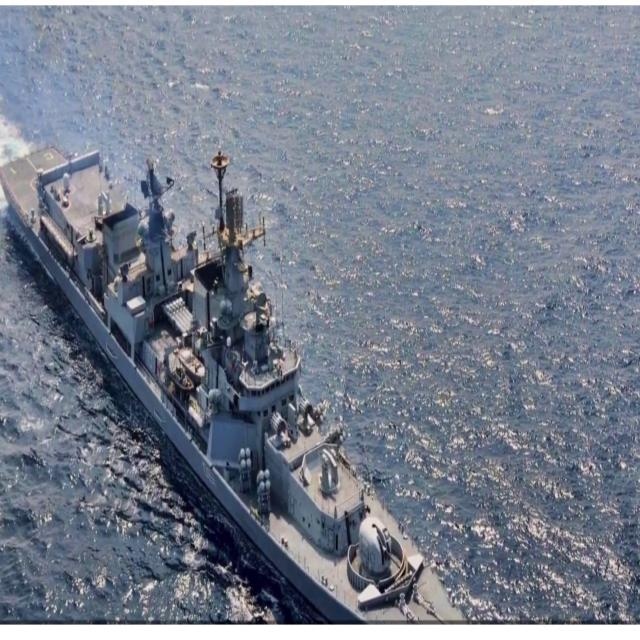OCR: (195, 452, 221, 494)
